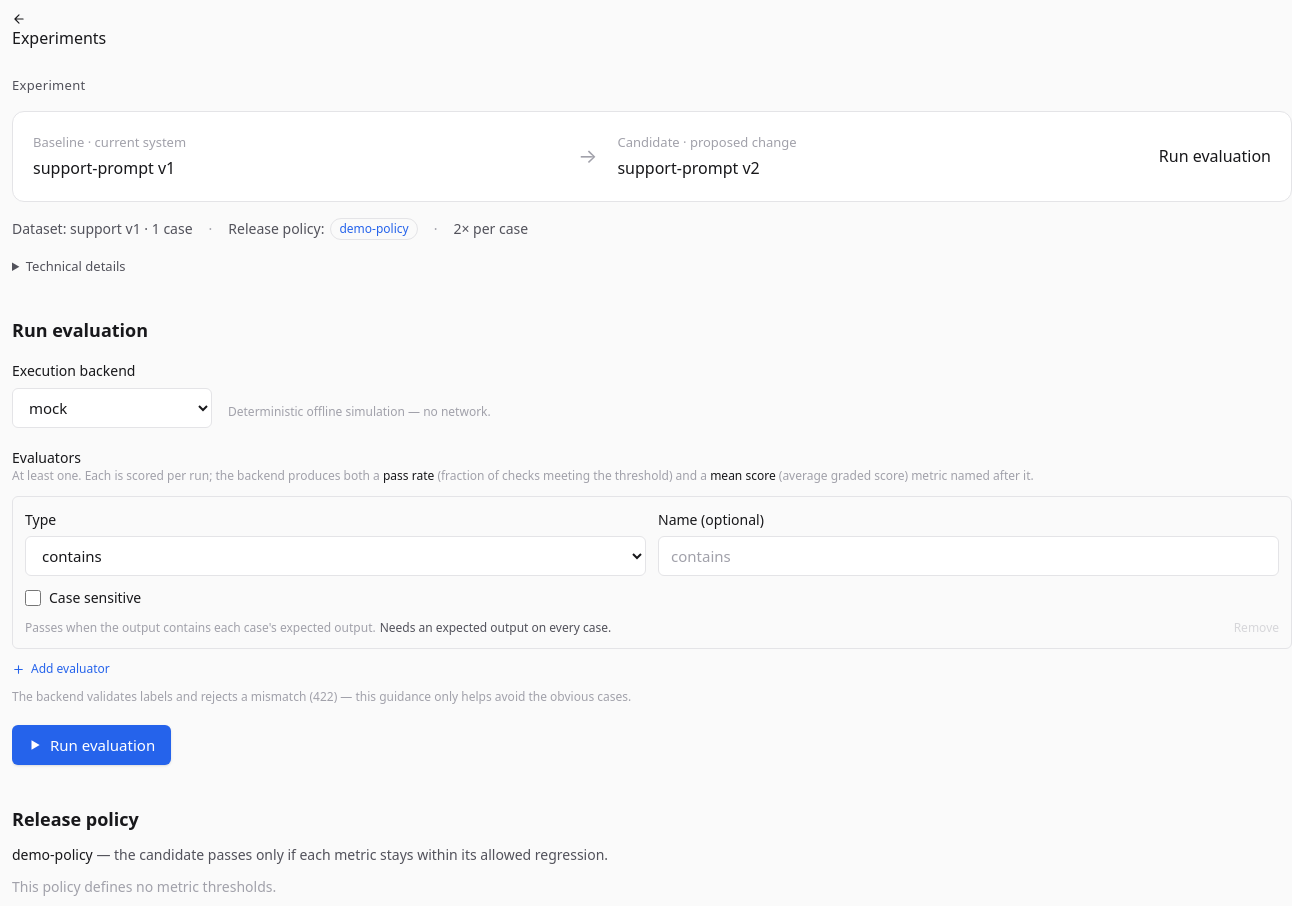
Test: ExperimentDetailPage › surfaces an enqueue (broker) failure on the form, not as a worker failure
The image size is (1292, 906).
Step 1. Click the button "Run evaluation" → (92, 745), box [12, 725, 171, 765]
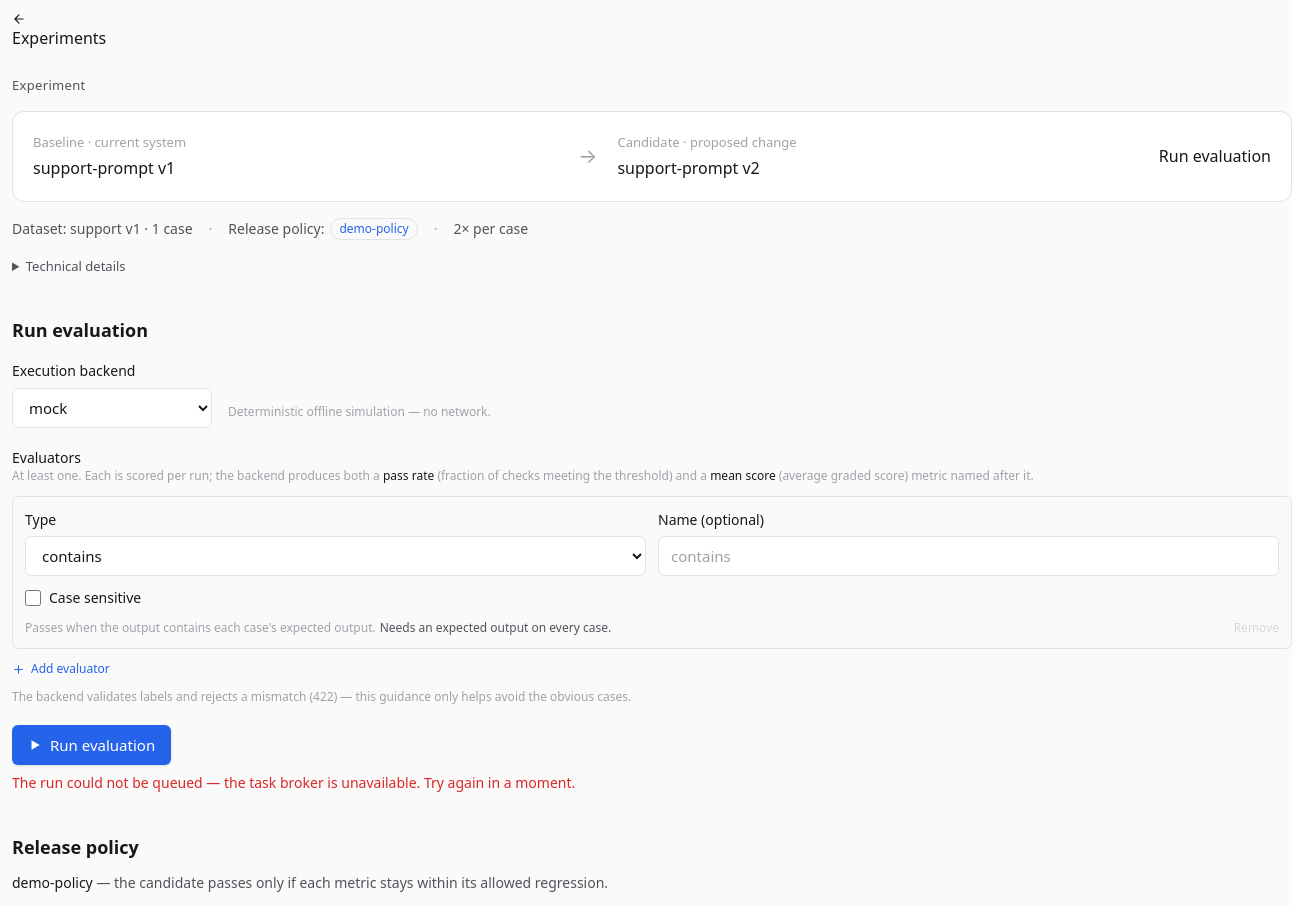
Result: the text "task broker is unavailable" is shown at [12, 773, 575, 792]
